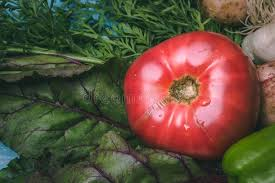tomato: (124, 31, 262, 160)
